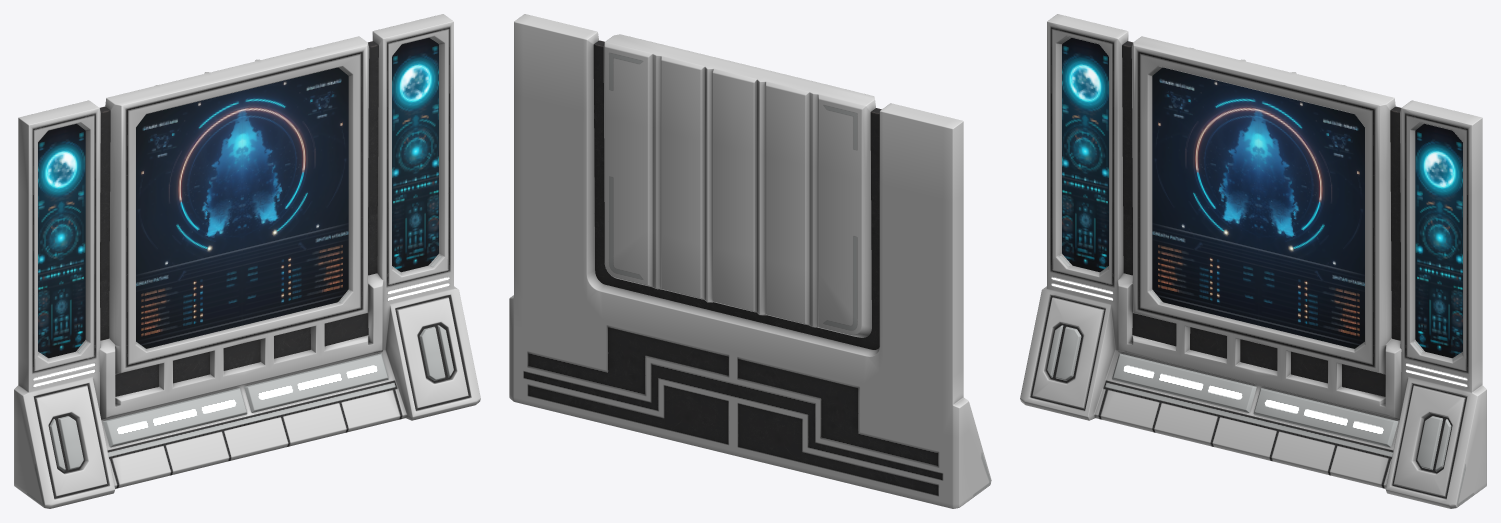
The model's file is LightBox01.FBX.
The picture shows the model from 3 angles, left to right: view 1: azimuth 30°, elevation 25°; view 2: azimuth 150°, elevation 25°; view 3: azimuth 330°, elevation 25°; orthographic projection. The views are drawn at different scales.
Visible parts, largest first — view 1: LightBox01; view 2: LightBox01; view 3: LightBox01.
Part boxes in pixels (x1,y1,x2,y2): LightBox01: [14, 14, 480, 508]; LightBox01: [509, 14, 991, 508]; LightBox01: [1020, 14, 1486, 508].
Size of what is drawn, in the model's own units: 2.64 by 2.13 by 0.3492.
